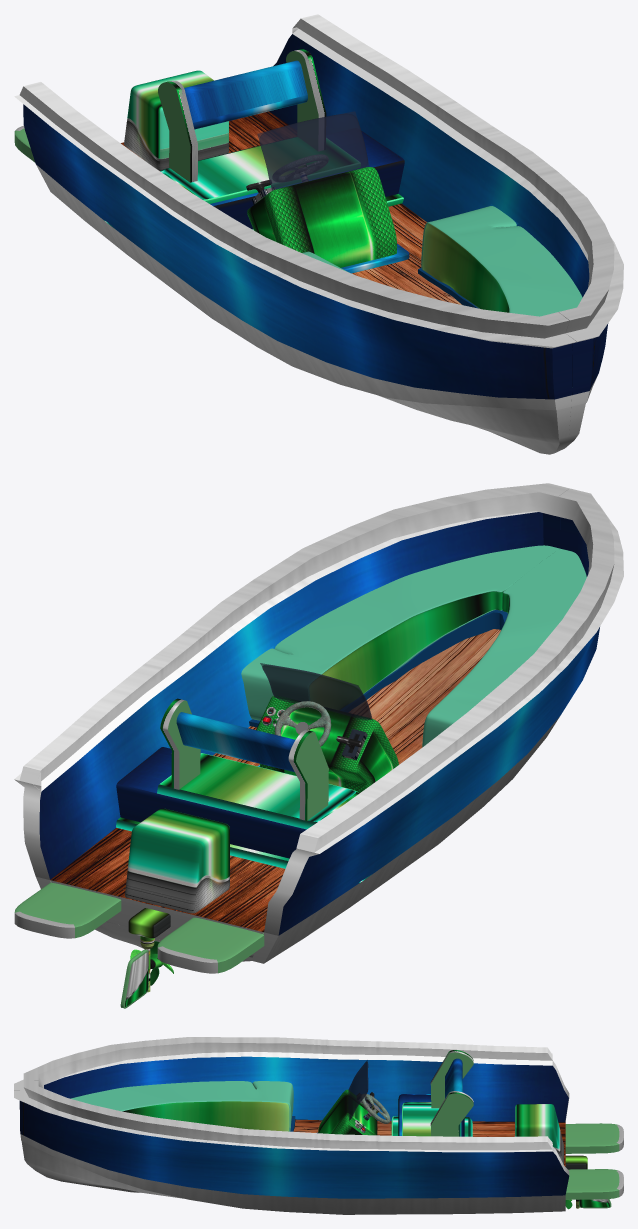
Rendered from wooden_boat.glb.
3 renders of one model, top to bottom at view 1: azimuth 30°, elevation 25°; view 2: azimuth 150°, elevation 25°; view 3: azimuth 270°, elevation 25°, orthographic. The views are drawn at different scales.
Parts seen in each view (by area): view 1: Object_14, Object_24, Object_23, Object_4, Object_25, Object_5, Object_15, Object_22, Object_19; view 2: Object_24, Object_14, Object_23, Object_15, Object_22, Object_25, Object_4, Object_5, Object_16, Object_19; view 3: Object_14, Object_24, Object_23, Object_4, Object_22, Object_15, Object_5, Object_25, Object_19, Object_16.
Part boxes in pixels (x1=…): Object_14: x1=23, y1=34, x2=608, y2=399; Object_24: x1=14, y1=14, x2=623, y2=454; Object_23: x1=104, y1=137, x2=582, y2=387; Object_4: x1=247, y1=167, x2=396, y2=267; Object_25: x1=184, y1=60, x2=478, y2=308; Object_5: x1=257, y1=111, x2=369, y2=190; Object_15: x1=121, y1=111, x2=461, y2=304; Object_22: x1=124, y1=70, x2=228, y2=170; Object_19: x1=273, y1=155, x2=328, y2=181; Object_24: x1=14, y1=483, x2=623, y2=1008; Object_14: x1=39, y1=512, x2=599, y2=935; Object_23: x1=116, y1=545, x2=586, y2=882; Object_15: x1=50, y1=629, x2=500, y2=932; Object_22: x1=125, y1=808, x2=229, y2=913; Object_25: x1=176, y1=610, x2=507, y2=772; Object_4: x1=256, y1=696, x2=398, y2=792; Object_5: x1=260, y1=663, x2=372, y2=720; Object_16: x1=128, y1=908, x2=170, y2=938; Object_19: x1=274, y1=701, x2=331, y2=746; Object_14: x1=19, y1=1056, x2=569, y2=1198; Object_24: x1=14, y1=1037, x2=623, y2=1214; Object_23: x1=71, y1=1081, x2=472, y2=1136; Object_4: x1=318, y1=1089, x2=377, y2=1135; Object_22: x1=515, y1=1104, x2=563, y2=1164; Object_15: x1=293, y1=1119, x2=565, y2=1166; Object_5: x1=347, y1=1060, x2=368, y2=1120; Object_25: x1=290, y1=1058, x2=462, y2=1133; Object_19: x1=361, y1=1094, x2=390, y2=1123; Object_16: x1=565, y1=1155, x2=587, y2=1169.
Size of the model in its own units: 2.49 by 1.52 by 6.18.
Materials: 23 (23 with a texture image).
